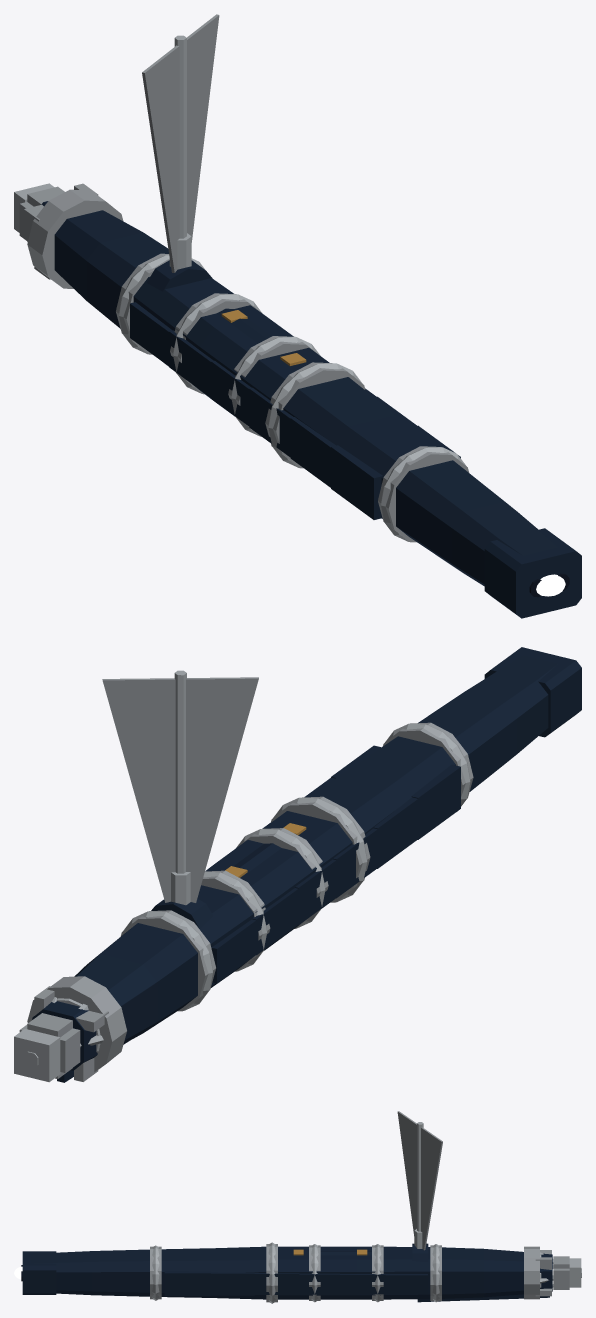
3 views of the same model, one above another, from view 1: azimuth 30°, elevation 25°; view 2: azimuth 150°, elevation 25°; view 3: azimuth 270°, elevation 25° (orthographic). The views are drawn at different scales.
Parts seen in each view (by area): view 1: RIMWARD_HULL; view 2: RIMWARD_HULL; view 3: RIMWARD_HULL.
Boxes of the visible parts, x1,y1,x2,y2 form: RIMWARD_HULL: (14,14,581,618); RIMWARD_HULL: (14,647,581,1082); RIMWARD_HULL: (21,1111,581,1303).
Bounding box in the file's own units: 0.9932 × 2.67 × 7.73.
